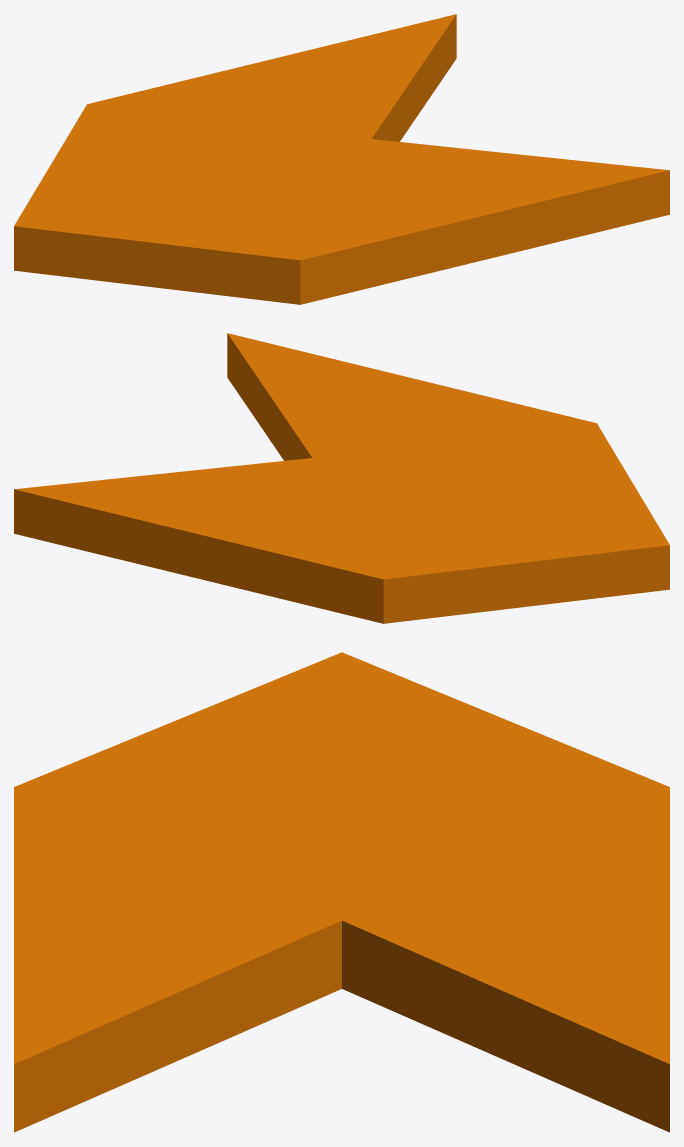
Rendered from GuidanceArrow.fbx.
The picture shows the model from 3 angles, top to bottom: view 1: azimuth 30°, elevation 25°; view 2: azimuth 150°, elevation 25°; view 3: azimuth 270°, elevation 25°; orthographic projection. The views are drawn at different scales.
Parts seen in each view (by area): view 1: Cube; view 2: Cube; view 3: Cube.
Part boxes in pixels (x1,y1,x2,y2): Cube: (14,14,669,304); Cube: (14,333,669,623); Cube: (14,652,669,1132).
Bounding box in the file's own units: 297 × 22.99 × 200.
